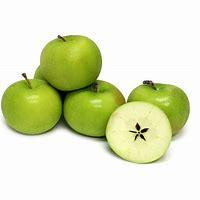apple: (62, 81, 130, 144), (37, 34, 104, 90), (4, 78, 66, 138), (110, 101, 175, 157), (132, 79, 187, 127)
